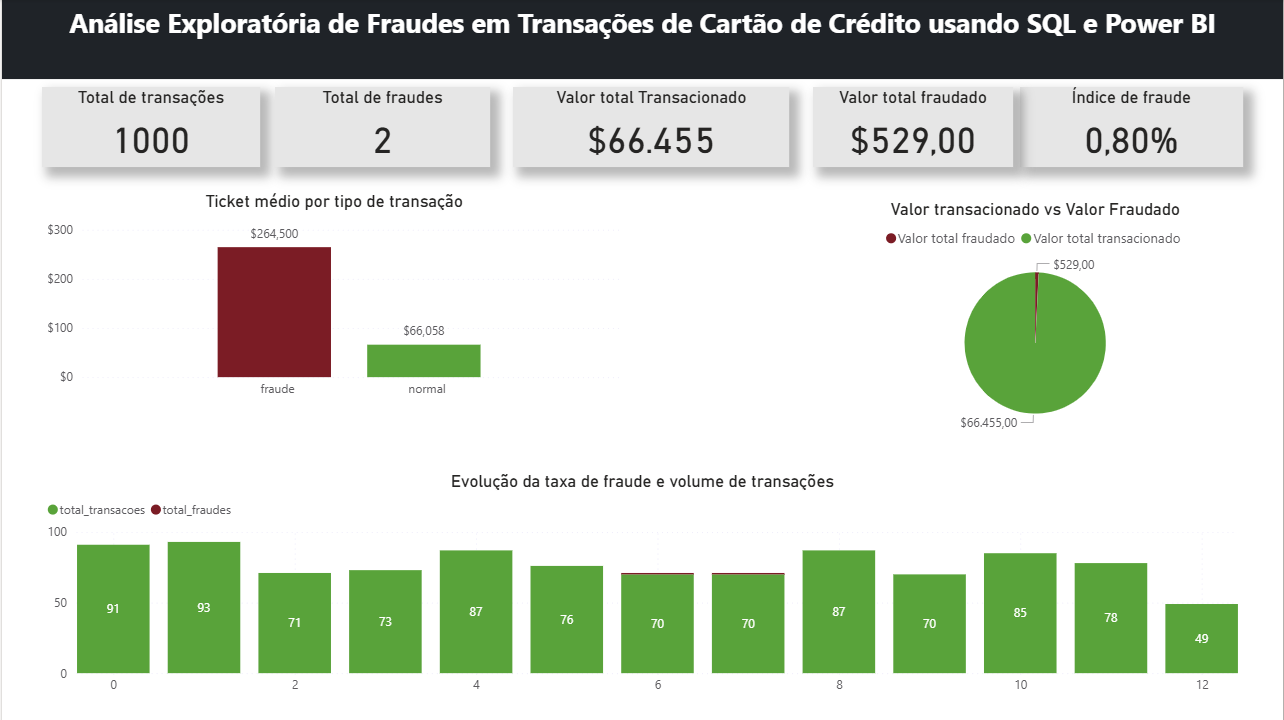

This screenshot's page, from the dashboard's own definition file:
{"tool":"powerbi","page":{"name":"Visão Geral","canvas":[1280,720],"ordinal":0},"visuals":[{"type":"textbox","box":[0,0,1280,80],"z":0},{"type":"card","title":"Valor total Transacionado","fields":{"Values":["Sum(07_valorTotal_vs_valorFraudado.valor_total_movimentado)"]},"box":[510.7,88,276.4,80],"z":0,"group":"g1"},{"type":"card","title":"Total de transações","fields":{"Values":["Sum(01_total_transacoes.Count(*))"]},"box":[40,88,217.8,80],"z":1000,"group":"g1"},{"type":"pieChart","title":"Valor transacionado vs Valor Fraudado","fields":{"Y":["Sum(07_valorTotal_vs_valorFraudado.valor_total_fraudado)","Sum(07_valorTotal_vs_valorFraudado.valor_total_movimentado)"]},"box":[824,200,416,240],"z":1000},{"type":"card","title":"Total de fraudes","fields":{"Values":["Sum(02_total_fraudes.COUNT(*))"]},"box":[272.7,88,214.9,80],"z":2000,"group":"g1"},{"type":"group","id":"g1","title":"Grupo 1","box":[40,88,1200,80],"z":2000},{"type":"card","title":"Índice de fraude","fields":{"Values":["03_taxa_fraude.TaxaFraude"]},"box":[1017.4,88,222.6,80],"z":3000,"group":"g1"},{"type":"columnChart","title":"Evolução da taxa de fraude e volume de transações","fields":{"Category":["05_fraudes_primeira_hora.minuto"],"Y":["Sum(05_fraudes_primeira_hora.total_transacoes)","Sum(05_fraudes_primeira_hora.total_fraudes)"]},"box":[40,472,1200,232],"z":3000},{"type":"columnChart","title":"Ticket médio por tipo de transação","fields":{"Category":["08_ticketMedio_fraude.Class"],"Y":["Sum(08_ticketMedio_fraude.ticket_medio)"]},"box":[40,192,584,216],"z":3002},{"type":"card","title":"Valor total fraudado","fields":{"Values":["Sum(04_valot_total_fraude.SUM(Amount))"]},"box":[810.1,88,199.6,80],"z":4000,"group":"g1"}]}

Visuals, with their boxes in screenshot pixels (x1, y1, x2, y2), scaled from the page's 1280x720 canvas onto the 1284x720 screenshot:
textbox: detection(0, 0, 1283, 80)
"Valor total Transacionado" card: detection(512, 88, 790, 168)
"Total de transações" card: detection(40, 88, 259, 168)
"Valor transacionado vs Valor Fraudado" pieChart: detection(827, 200, 1244, 440)
"Total de fraudes" card: detection(274, 88, 489, 168)
"Grupo 1" group: detection(40, 88, 1244, 168)
"Índice de fraude" card: detection(1021, 88, 1244, 168)
"Evolução da taxa de fraude e volume de transações" columnChart: detection(40, 472, 1244, 704)
"Ticket médio por tipo de transação" columnChart: detection(40, 192, 626, 408)
"Valor total fraudado" card: detection(813, 88, 1013, 168)
